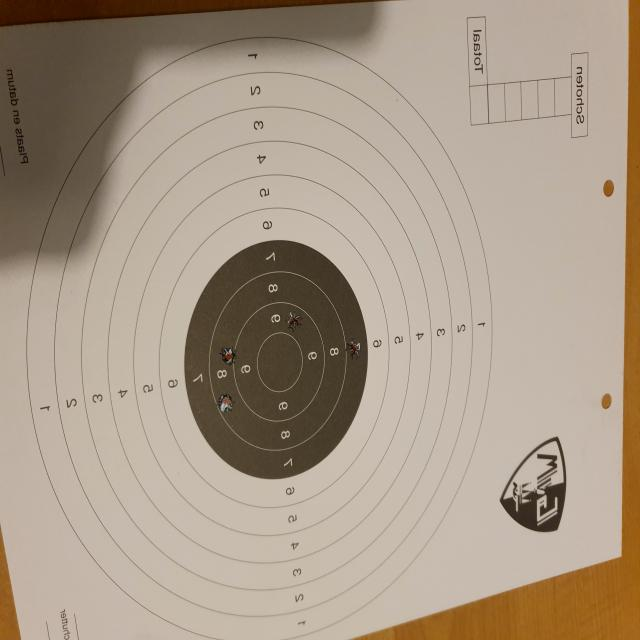8: (345, 337, 361, 361), (217, 394, 235, 414)
9: (285, 310, 303, 333), (219, 344, 237, 366)
Target: (25, 35, 492, 638)
black_contour: (185, 239, 367, 479)
